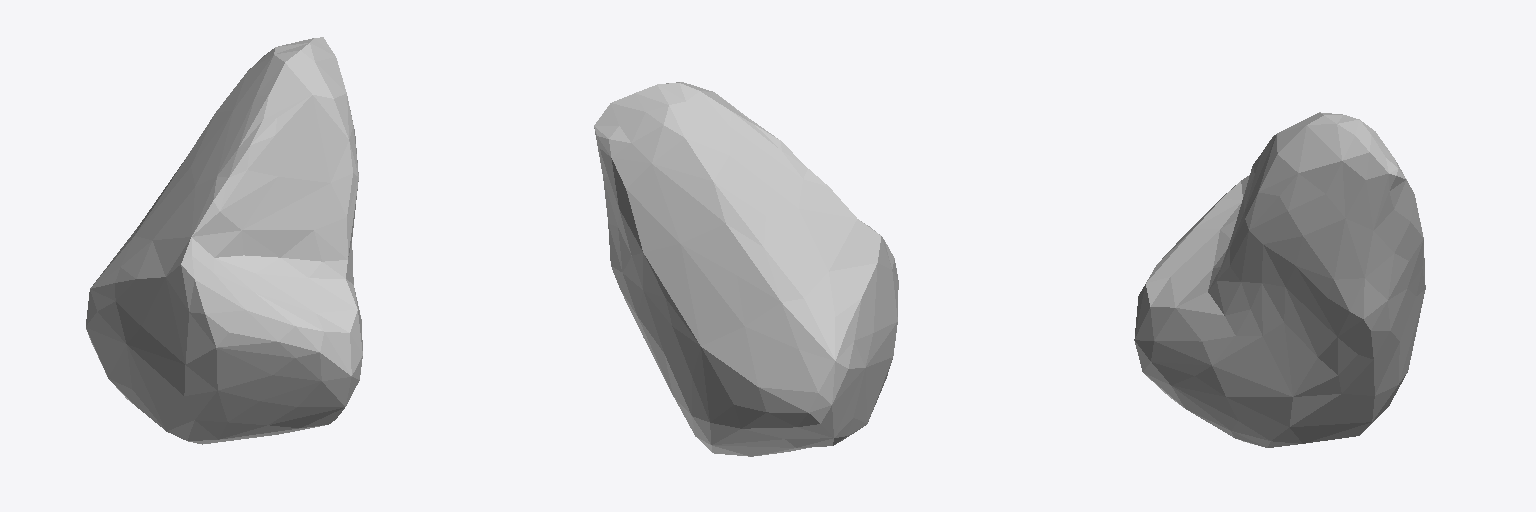
File: Rockk3.obj
3 renders of one model, left to right at view 1: azimuth 30°, elevation 25°; view 2: azimuth 150°, elevation 25°; view 3: azimuth 270°, elevation 25°, orthographic.
Parts seen in each view (by area): view 1: Rockk3; view 2: Rockk3; view 3: Rockk3.
Boxes of the visible parts, x1,y1,x2,y2 form: Rockk3: [86, 37, 362, 444]; Rockk3: [594, 82, 898, 456]; Rockk3: [1134, 112, 1425, 447].
Bounding box in the file's own units: 1.87 × 2.59 × 1.98.